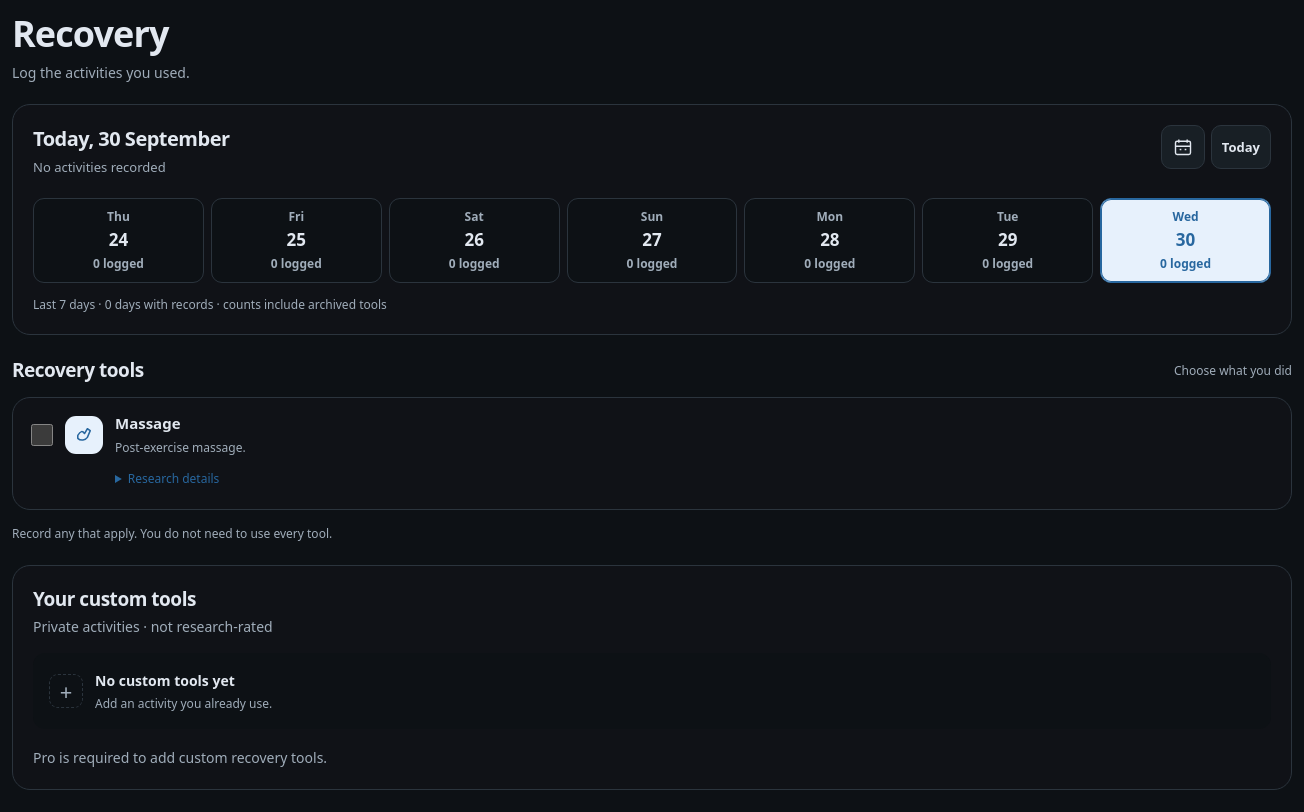
Test case: Recovery › loads an older tracking date without shifting the today-based history
Expected: the checkbox labelled "Massage" is shown, x1=31 y1=424 x2=53 y2=446
In the date field named "Tracking date": (1216, 147) x1=1161 y1=125 x2=1271 y2=169, type "2026-09-20"
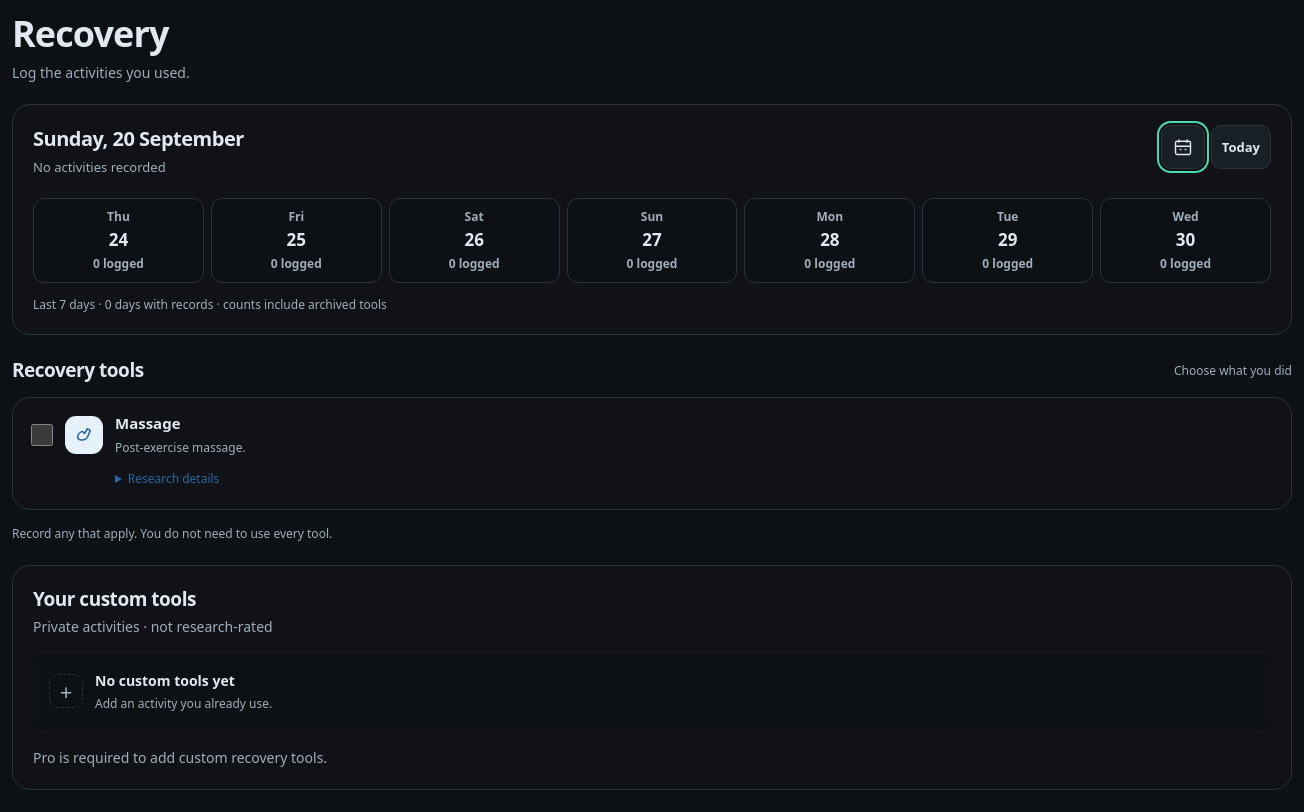
Expected: the heading "Sunday, 20 September" is shown, x1=33 y1=125 x2=244 y2=152
